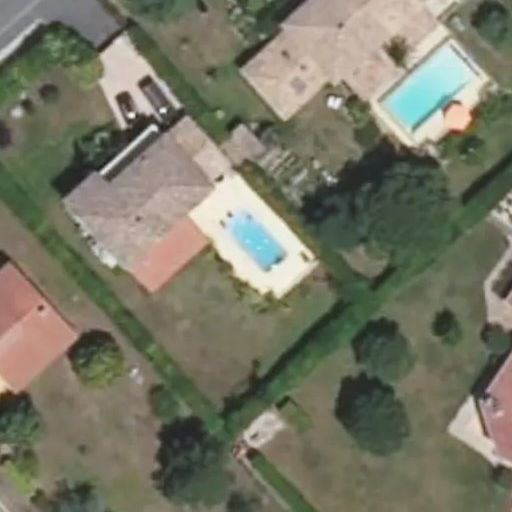pool: (220, 229, 291, 254)
